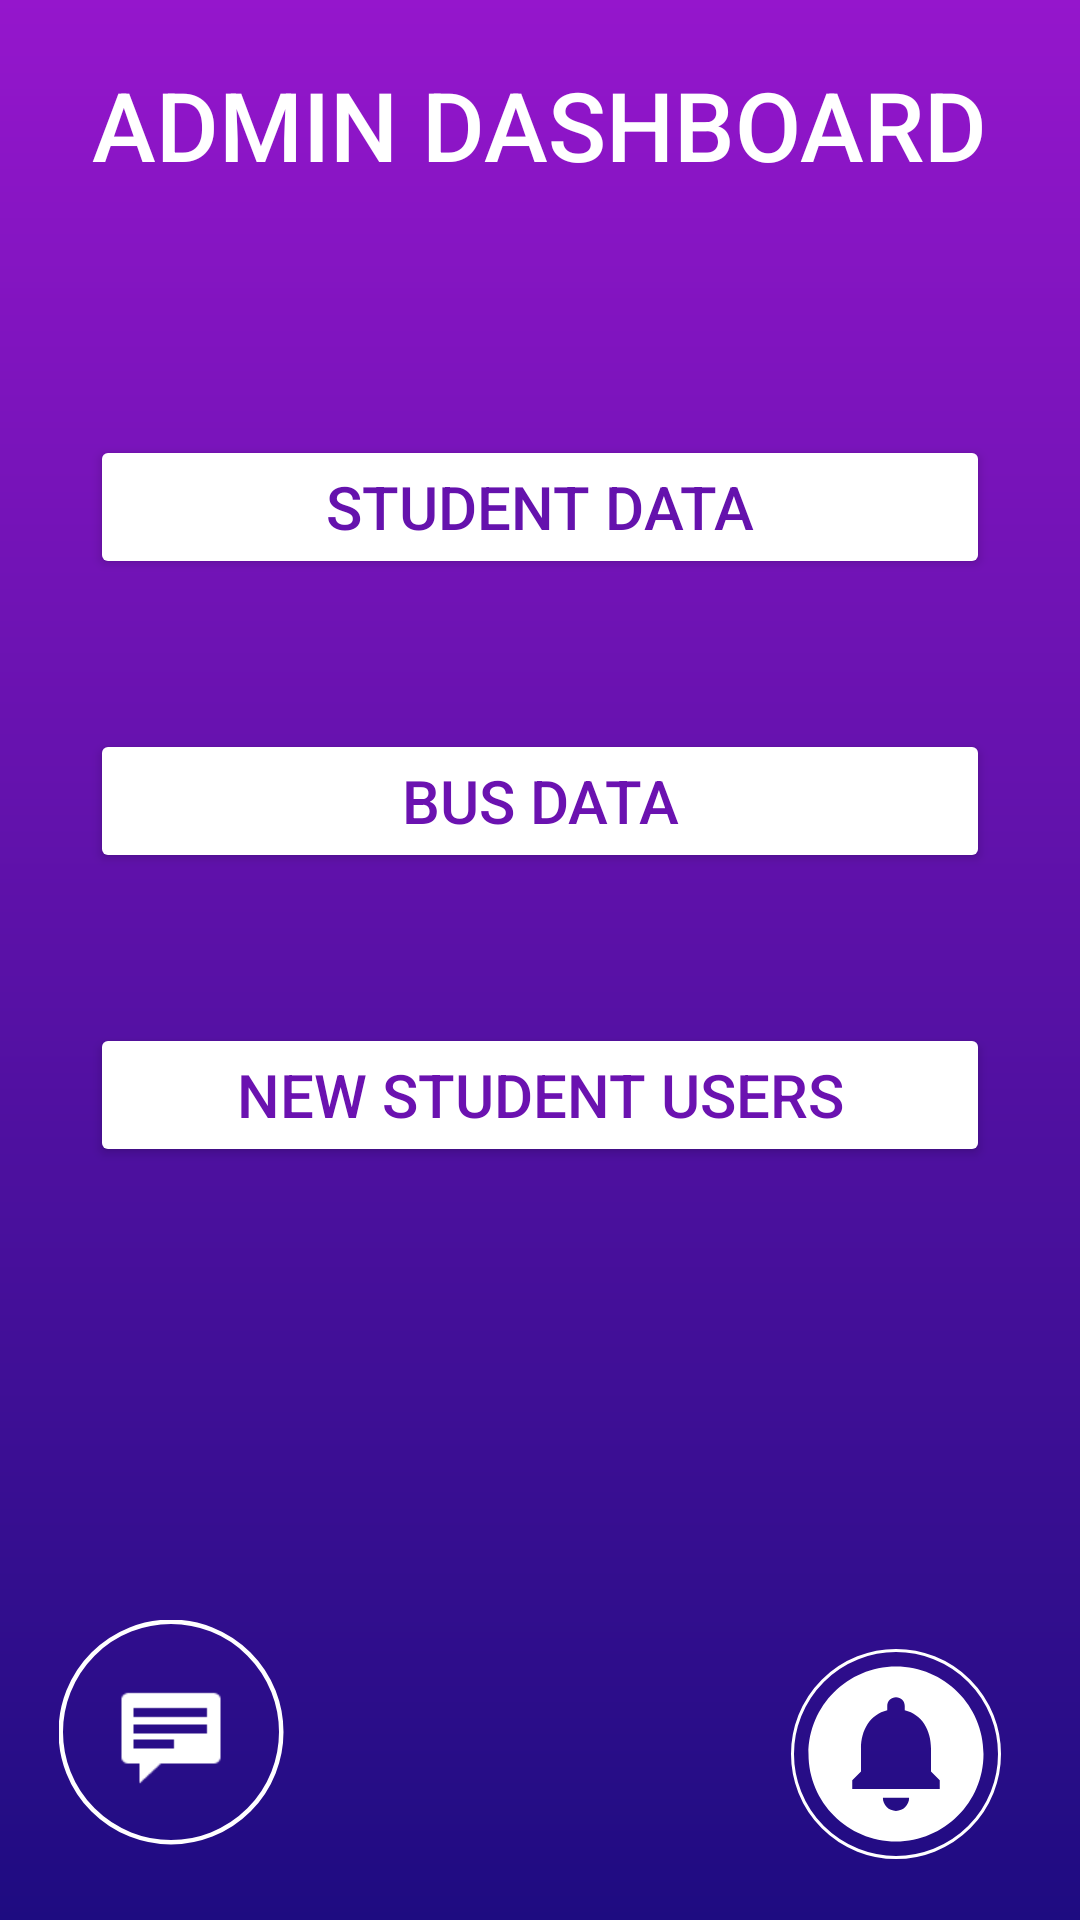

Icon click points for this 1080 × 1920 phone screenshot, format [x,y]:
circle notifications: [896,1754]
